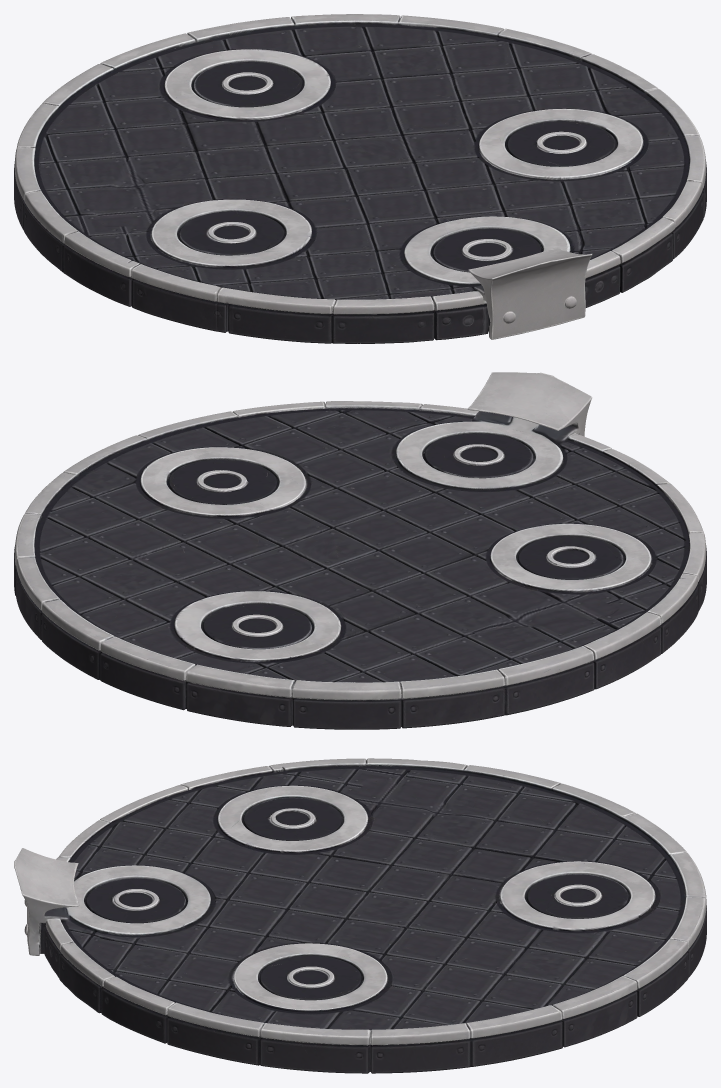
Rendered from Nivel4_FAsostenido_El_cuerpo_nivel_completo.glb.
The picture shows the model from 3 angles, top to bottom: view 1: azimuth 30°, elevation 25°; view 2: azimuth 150°, elevation 25°; view 3: azimuth 270°, elevation 25°; orthographic projection. The views are drawn at different scales.
Visible parts, largest first — view 1: Mesh_0; view 2: Mesh_0; view 3: Mesh_0.
Part boxes in pixels (x1,y1,x2,y2): Mesh_0: (14, 14, 706, 343); Mesh_0: (14, 372, 706, 729); Mesh_0: (14, 758, 706, 1073).
Bounding box in the file's own units: 1.84 × 0.2198 × 1.92.
1 material, 1 textured.
